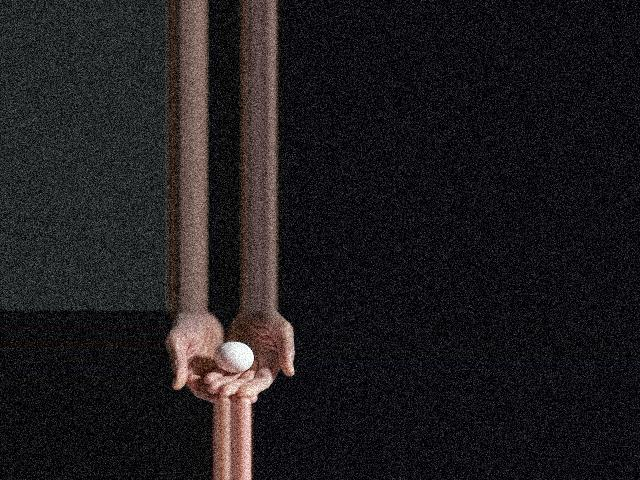egg: (214, 341, 254, 373)
